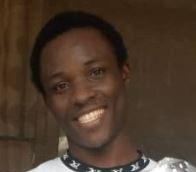without_facemask: (53, 98, 129, 145)
